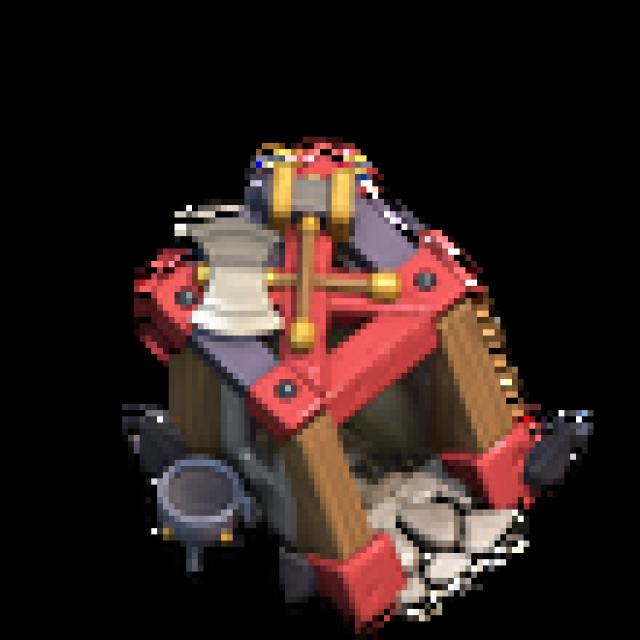dark_barracks: (120, 145, 588, 637)
